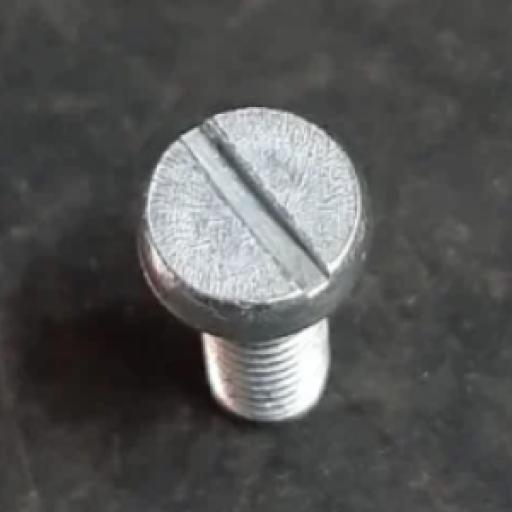Slotted: (142, 104, 370, 331)
